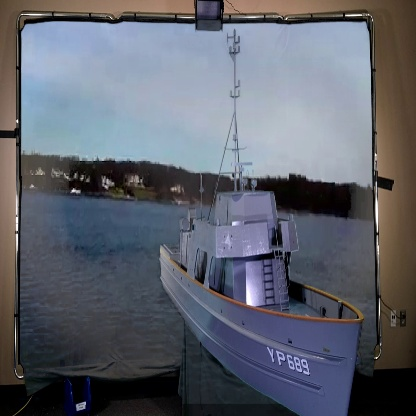YP689: (159, 33, 366, 416)
